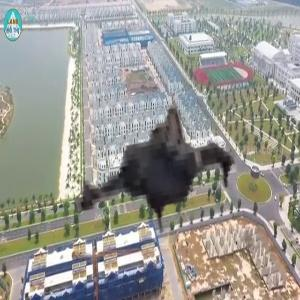drone: (64, 76, 268, 280)
